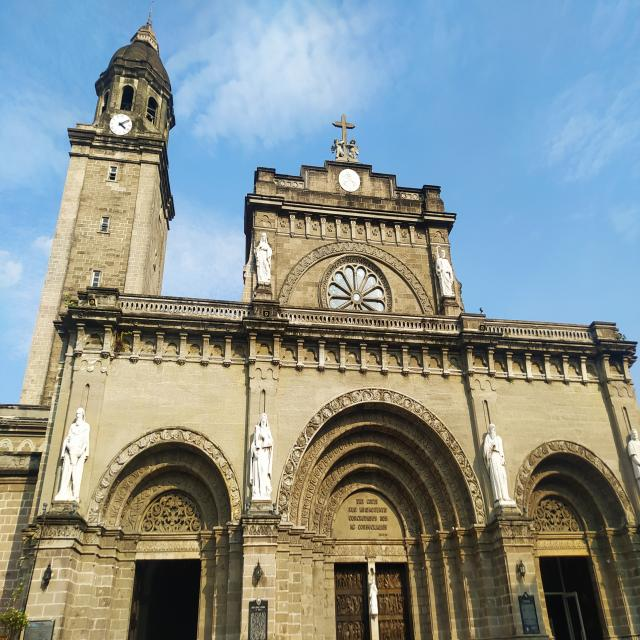Manila Cathedral: (10, 6, 637, 631)
